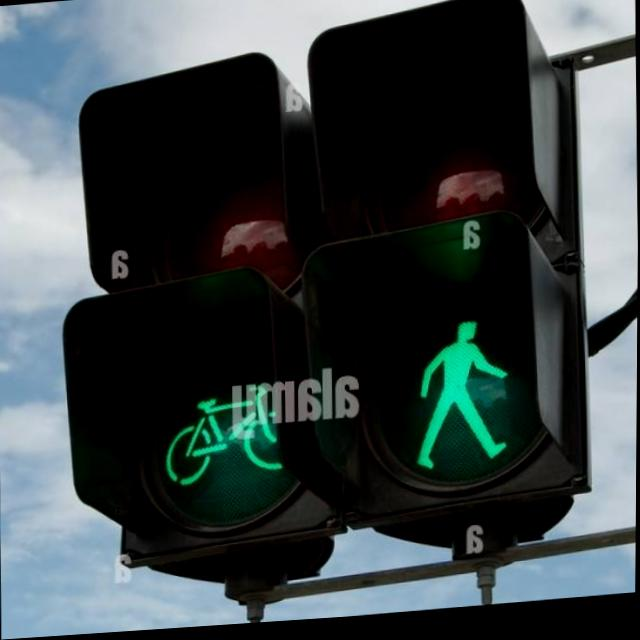green_light: (406, 308, 522, 485)
